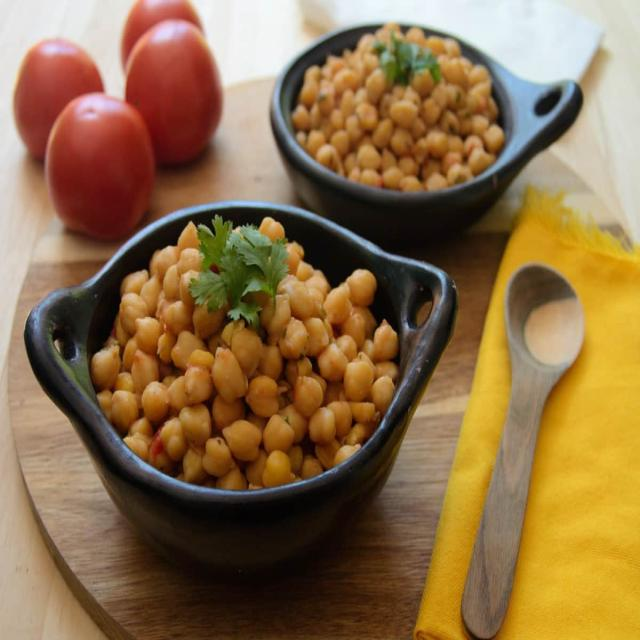garbanzos: (89, 213, 408, 494)
